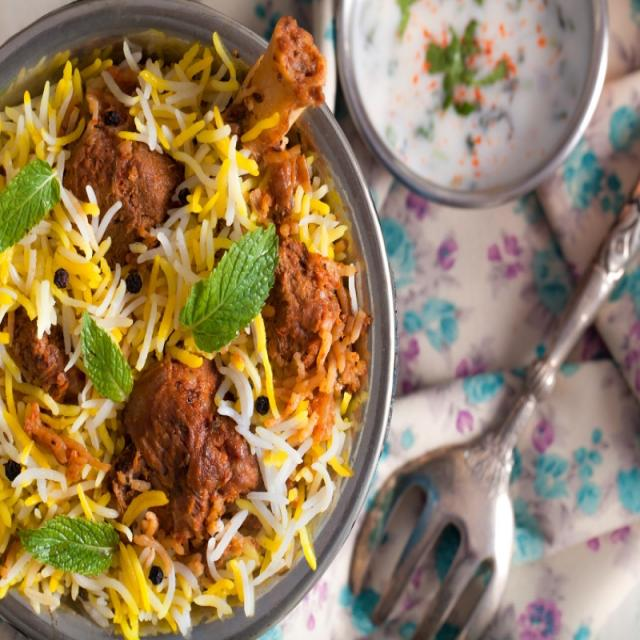Biryani: (1, 12, 361, 639)
